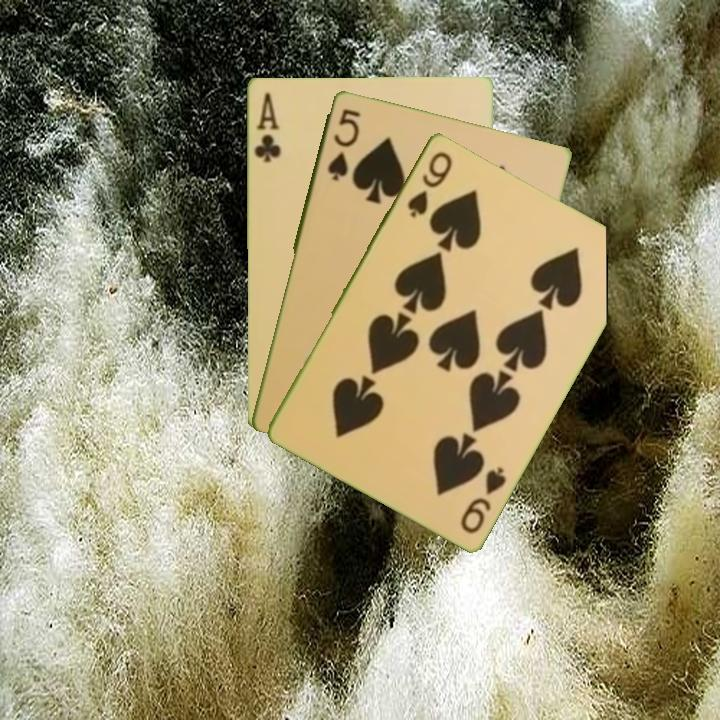5s: (323, 104, 364, 183)
9s: (456, 462, 509, 537), (403, 147, 455, 220)
Ac: (250, 88, 283, 165)
